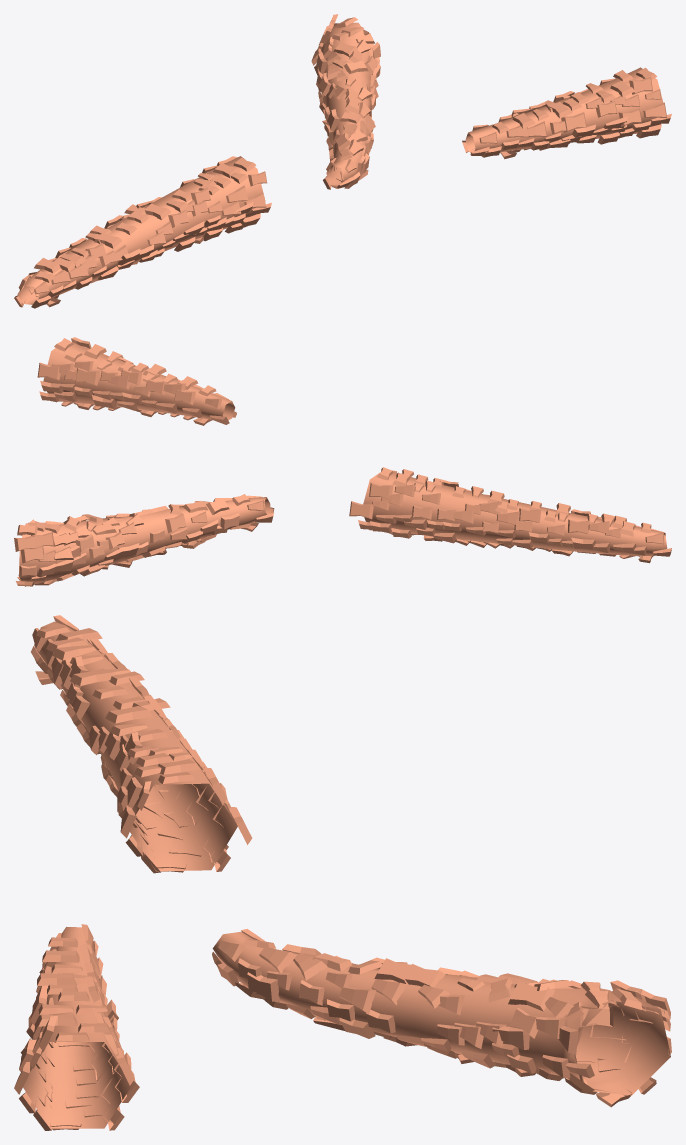
The model's file is deadTrunks.fbx.
3 renders of one model, top to bottom at view 1: azimuth 30°, elevation 25°; view 2: azimuth 150°, elevation 25°; view 3: azimuth 270°, elevation 25°, orthographic. The views are drawn at different scales.
Visible parts, largest first — view 1: deadTrunk, deadTrunk2, deadTrunk3; view 2: deadTrunk, deadTrunk3, deadTrunk2; view 3: deadTrunk3, deadTrunk, deadTrunk2.
Boxes of the visible parts, x1,y1,x2,y2 form: deadTrunk: [14, 156, 271, 308]; deadTrunk2: [462, 67, 671, 159]; deadTrunk3: [311, 14, 380, 189]; deadTrunk: [349, 467, 671, 563]; deadTrunk3: [14, 494, 274, 586]; deadTrunk2: [37, 337, 236, 425]; deadTrunk3: [212, 929, 671, 1107]; deadTrunk: [31, 615, 252, 873]; deadTrunk2: [14, 924, 139, 1130].
Bounding box in the file's own units: 2225 × 338 × 1192.
